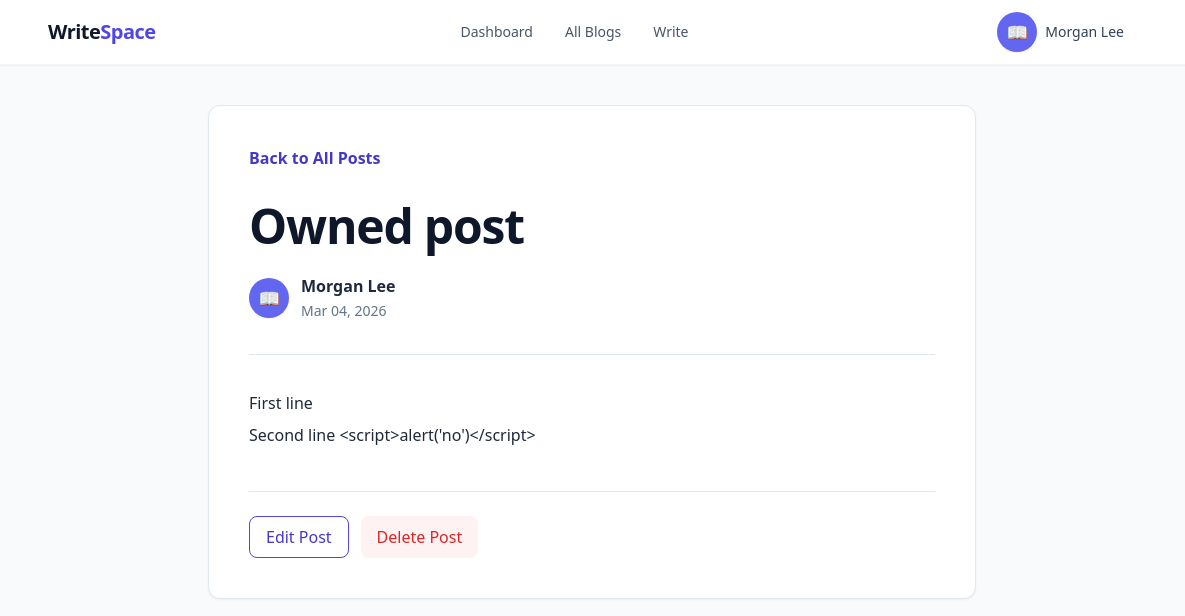
Scenario: ReadBlog › rechecks owner authorization before delete and redirects without confirmation
This screenshot has width=1185, height=616.
Click the button "Delete Post".
click(419, 537)  # box [361,516,478,558]
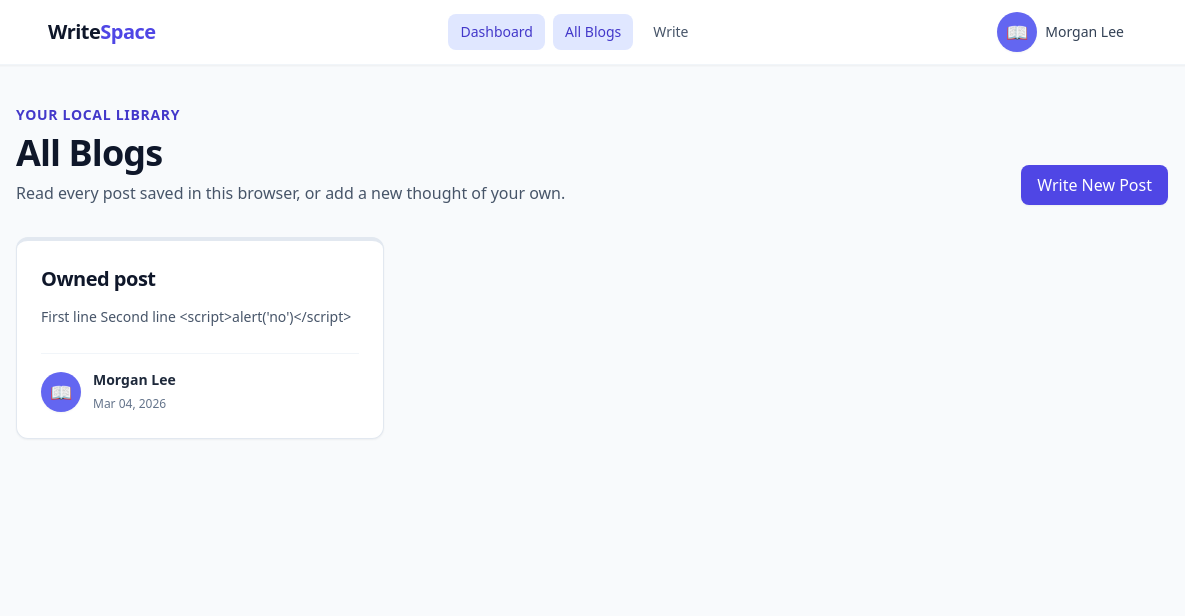
Expected: the heading "All Blogs" is shown, [16,128,162,177]
